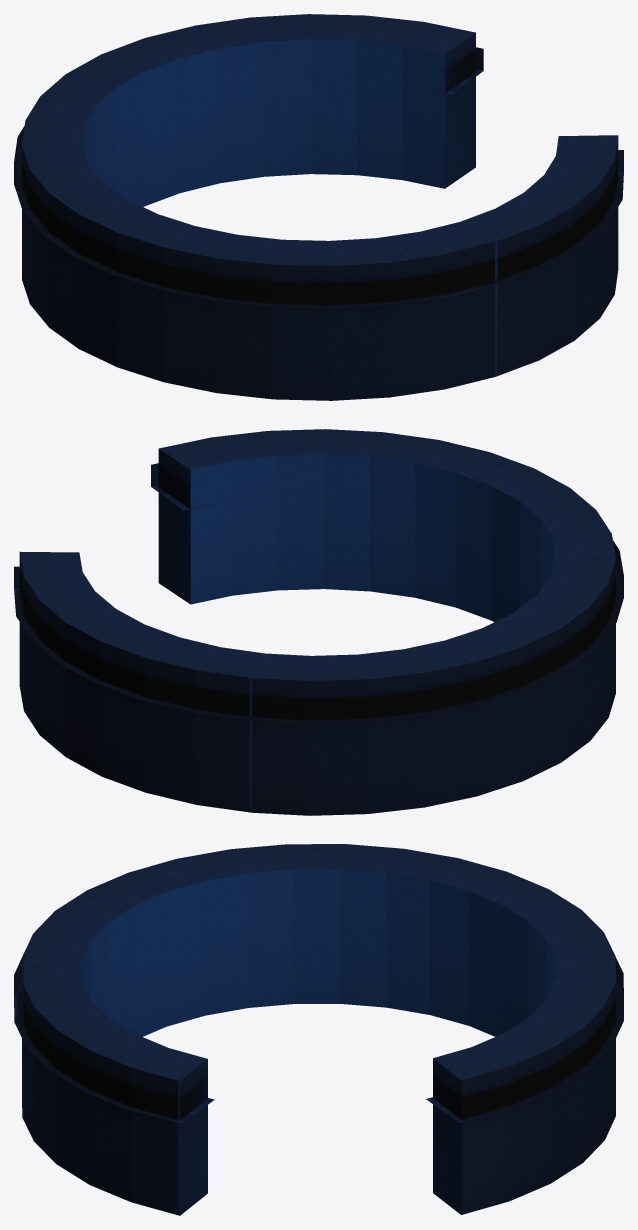
The model's file is Bar.obj.
The picture shows the model from 3 angles, top to bottom: view 1: azimuth 30°, elevation 25°; view 2: azimuth 150°, elevation 25°; view 3: azimuth 270°, elevation 25°; orthographic projection.
Visible parts, largest first — view 1: Cylinder.002_Cylinder.006; view 2: Cylinder.002_Cylinder.006; view 3: Cylinder.002_Cylinder.006.
Boxes of the visible parts, bbox=[...] form: Cylinder.002_Cylinder.006: bbox=[14, 14, 623, 400]; Cylinder.002_Cylinder.006: bbox=[14, 429, 623, 815]; Cylinder.002_Cylinder.006: bbox=[14, 844, 623, 1215].
Bounding box in the file's own units: 0.4385 × 0.113 × 0.4638.
1 material, 1 textured.
